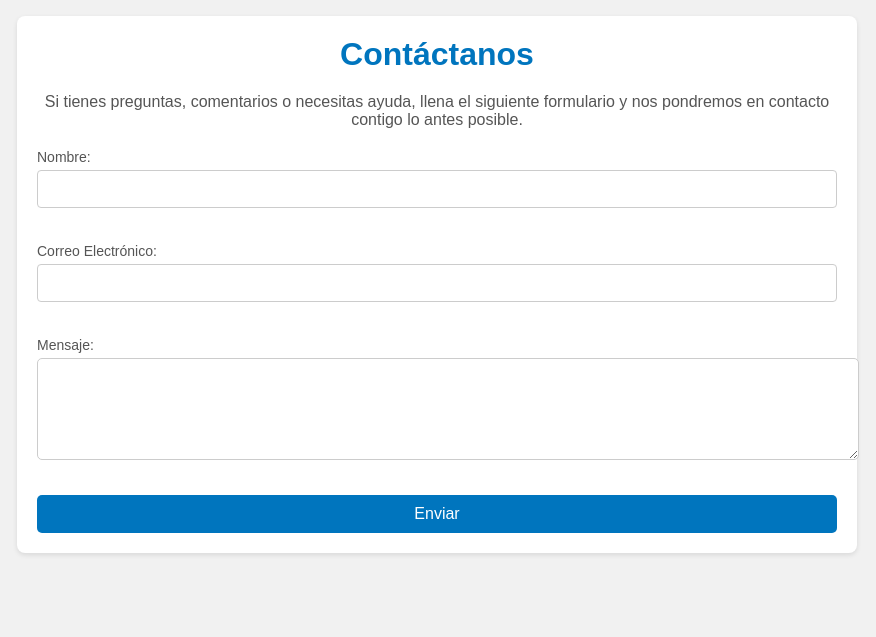
Scenario: Contacto Component › Shows error message for empty fields
Click the button "Enviar".
click(437, 514)  # box [37,495,837,533]
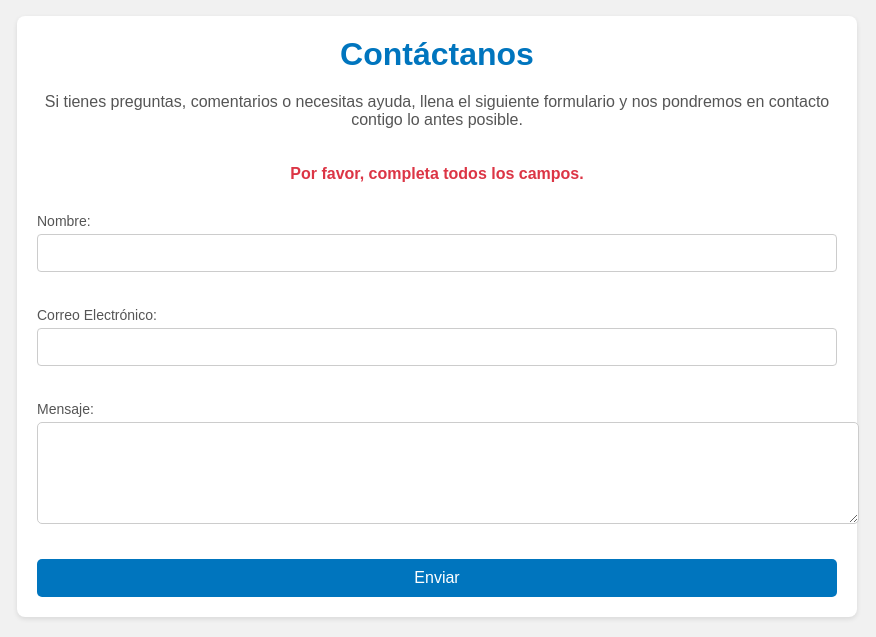
Expected: the text "Por favor, completa todos los campos." is shown, [290,165,584,182]
